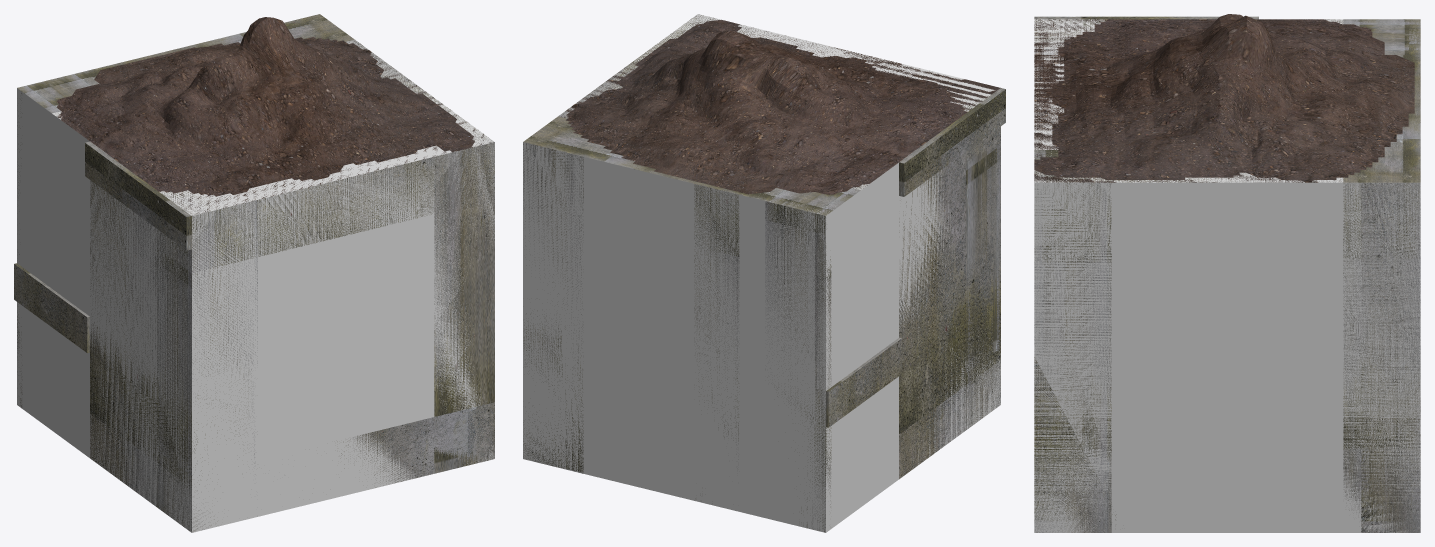
Rendered from CellPrefab.fbx.
3 renders of one model, left to right at view 1: azimuth 30°, elevation 25°; view 2: azimuth 150°, elevation 25°; view 3: azimuth 270°, elevation 25°, orthographic. The views are drawn at different scales.
Visible parts, largest first — view 1: Cube, Plane.001, Cube.002, Cube.004, Cube.001, Cube.003; view 2: Cube, Plane.001, Cube.002, Cube.003, Cube.004, Cube.001; view 3: Cube, Plane.001, Cube.003, Cube.001, Cube.004, Cube.002.
Part boxes in pixels (x1,y1,x2,y2): Cube: [17, 40, 494, 532]; Plane.001: [56, 17, 491, 213]; Cube.002: [14, 111, 257, 532]; Cube.004: [157, 142, 494, 525]; Cube.001: [346, 39, 494, 473]; Cube.003: [17, 14, 354, 408]; Cube: [523, 14, 1000, 532]; Plane.001: [561, 14, 1000, 194]; Cube.002: [765, 88, 1005, 532]; Cube.003: [523, 116, 860, 512]; Cube.004: [966, 143, 1000, 424]; Cube.001: [523, 14, 756, 473]; Cube: [1034, 19, 1420, 532]; Plane.001: [1034, 14, 1414, 182]; Cube.003: [1343, 19, 1420, 532]; Cube.001: [1034, 150, 1420, 532]; Cube.004: [1034, 183, 1111, 532]; Cube.002: [1034, 16, 1342, 54].
Bounding box in the file's own units: 203 × 254 × 200.
